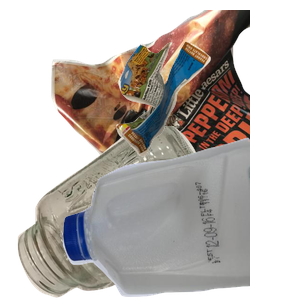glass: (15, 126, 229, 300)
paper: (49, 10, 289, 190)
plastic: (60, 135, 300, 300)
trash: (114, 39, 300, 188)
